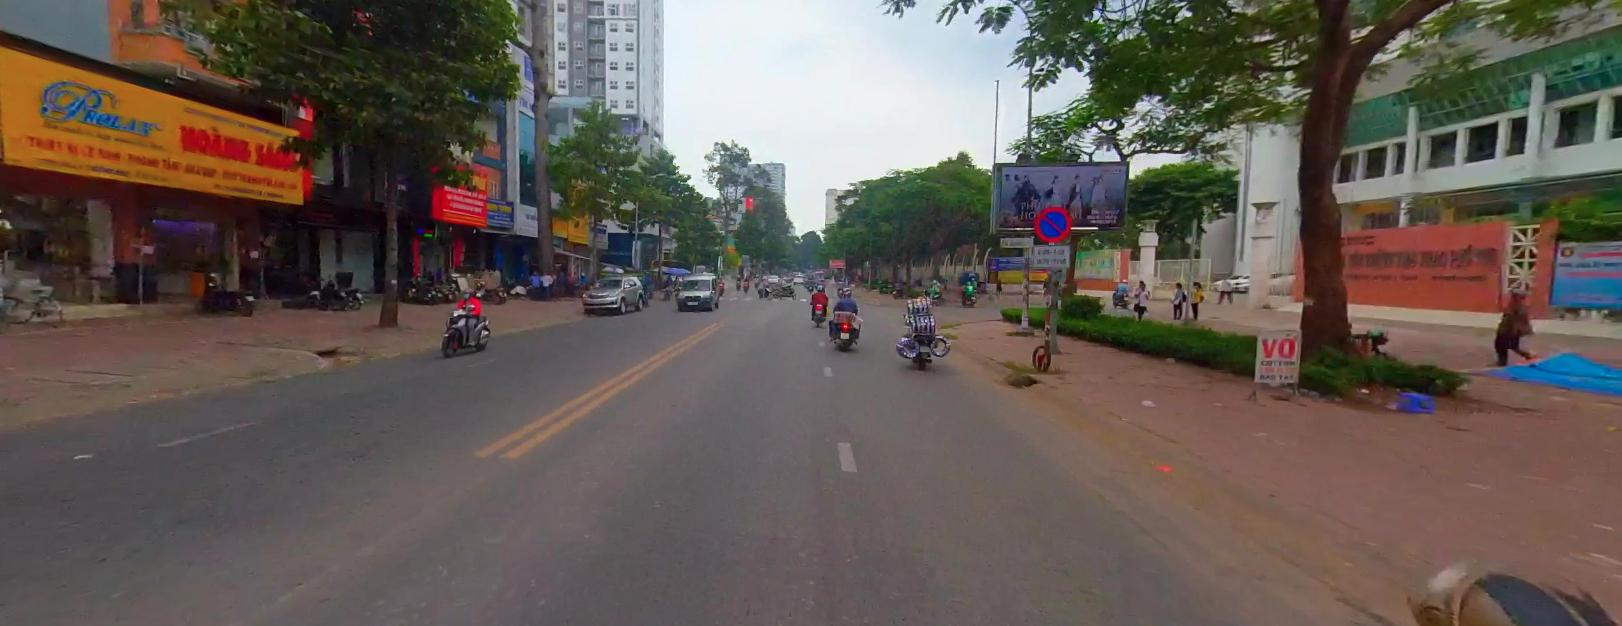Cam dung va do: (1030, 200, 1074, 248)
